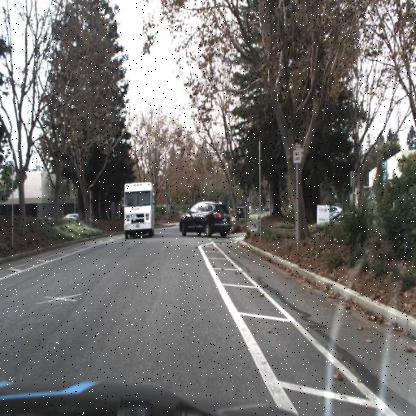car: (176, 200, 234, 237), (235, 206, 244, 218), (249, 205, 260, 213), (69, 212, 80, 218)
truck: (123, 181, 155, 242)
